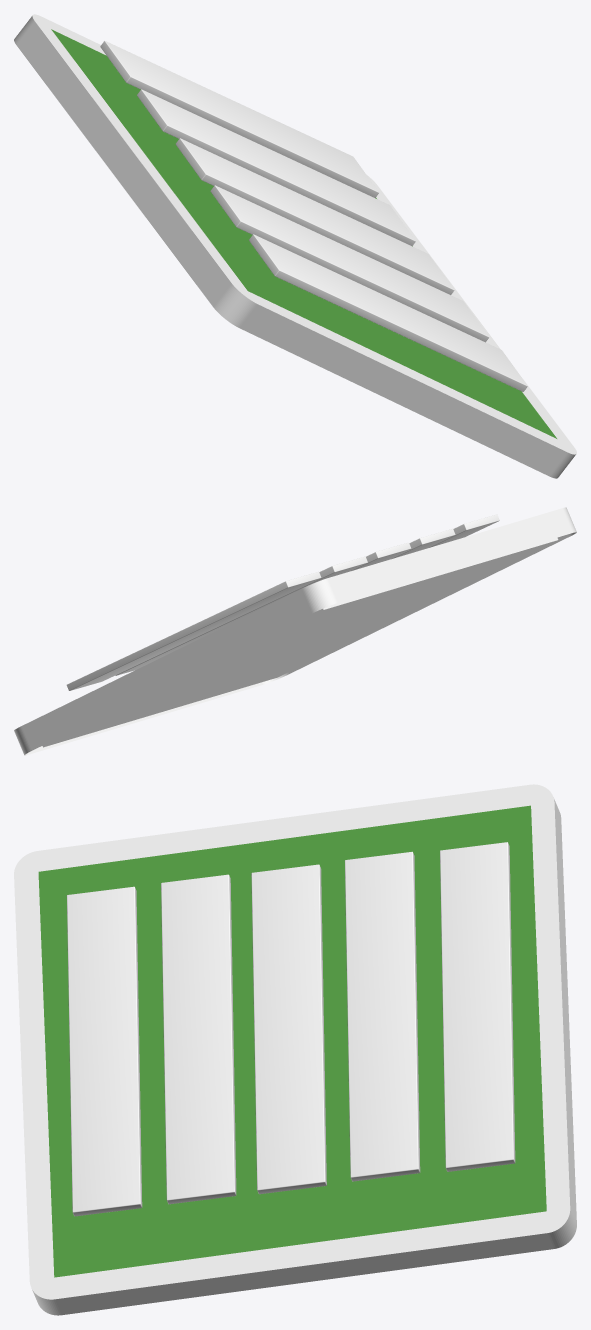
The model's file is single_board.glb.
3 views of the same model, one above another, from view 1: azimuth 30°, elevation 25°; view 2: azimuth 150°, elevation 25°; view 3: azimuth 270°, elevation 25° (orthographic). The views are drawn at different scales.
Visible parts, largest first — view 1: Plane.021, Cube.035, Cube.047, Cube.025, Cube.004, Cube.020; view 2: Plane.021, Cube.047, Cube.004, Cube.035, Cube.025, Cube.020; view 3: Plane.021, Cube.020, Cube.025, Cube.047, Cube.035, Cube.004.
Part boxes in pixels (left/top/right/bottom): Plane.021: left=14, top=14, right=576, bottom=478; Cube.035: left=249, top=234, right=527, bottom=391; Cube.047: left=100, top=41, right=379, bottom=197; Cube.025: left=210, top=185, right=489, bottom=342; Cube.004: left=137, top=89, right=415, bottom=245; Cube.020: left=175, top=138, right=454, bottom=294; Plane.021: left=14, top=507, right=576, bottom=755; Cube.047: left=66, top=571, right=321, bottom=690; Cube.004: left=115, top=556, right=367, bottom=675; Cube.035: left=429, top=514, right=499, bottom=547; Cube.025: left=388, top=529, right=455, bottom=559; Cube.020: left=351, top=542, right=411, bottom=570; Plane.021: left=14, top=784, right=576, bottom=1315; Cube.020: left=251, top=864, right=326, bottom=1194; Cube.025: left=161, top=874, right=236, bottom=1204; Cube.047: left=440, top=842, right=515, bottom=1171; Cube.035: left=66, top=886, right=142, bottom=1216; Cube.004: left=344, top=851, right=420, bottom=1181.
Bounding box in the file's own units: 8.65 × 7.39 × 9.94.
